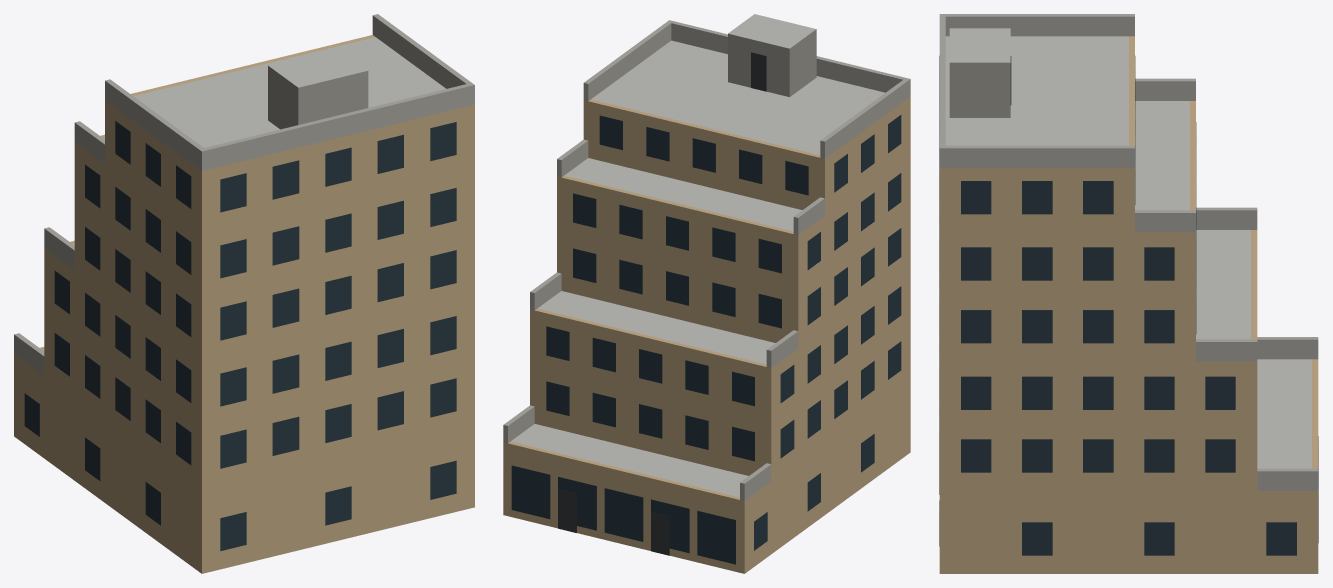
Rendered from bld_t4_sixstorey_apartments_quest.glb.
The picture shows the model from 3 angles, left to right: view 1: azimuth 30°, elevation 25°; view 2: azimuth 150°, elevation 25°; view 3: azimuth 270°, elevation 25°; orthographic projection. The views are drawn at different scales.
Parts seen in each view (by area): view 1: bld_t4_sixstorey_apartments_quest-col; view 2: bld_t4_sixstorey_apartments_quest-col; view 3: bld_t4_sixstorey_apartments_quest-col.
Boxes of the visible parts, <box> form: bld_t4_sixstorey_apartments_quest-col: <box>14,14,474,573</box>; bld_t4_sixstorey_apartments_quest-col: <box>503,14,910,573</box>; bld_t4_sixstorey_apartments_quest-col: <box>939,14,1318,573</box>.
Size of the model in its own units: 15.62 by 25 by 18.63.
